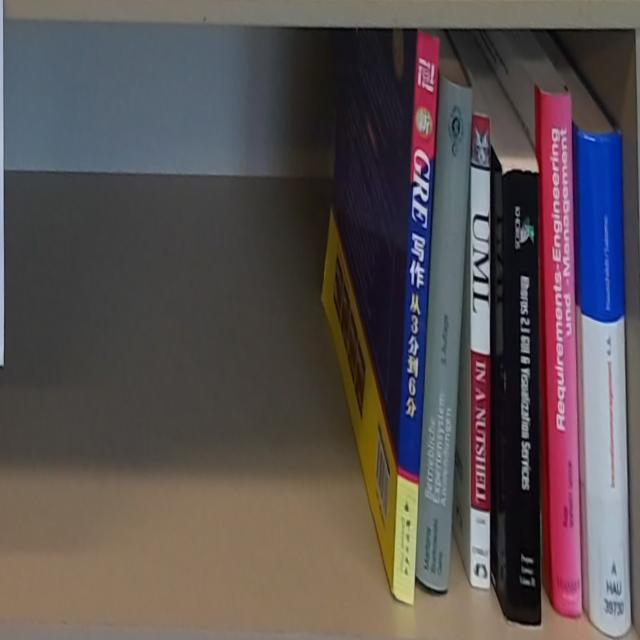Book Spine: (416, 75, 473, 596), (577, 129, 633, 638), (393, 27, 440, 608), (540, 90, 584, 620), (503, 171, 542, 629), (471, 114, 490, 588)
